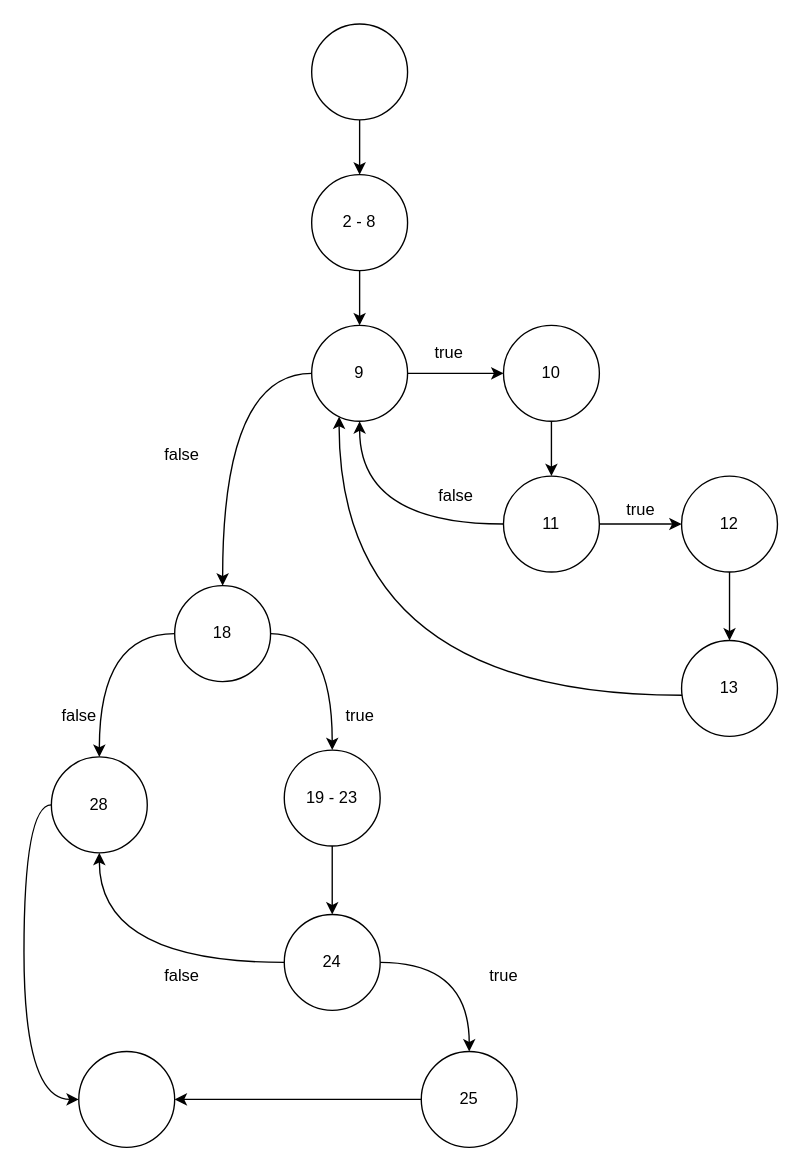
The diagram is 801 pixels wide and 1171 high, and some of its shapes have lost their labels. Each missing label, with the box of its shape:
nf: (77, 1050, 175, 1147)
ni: (310, 23, 408, 120)
